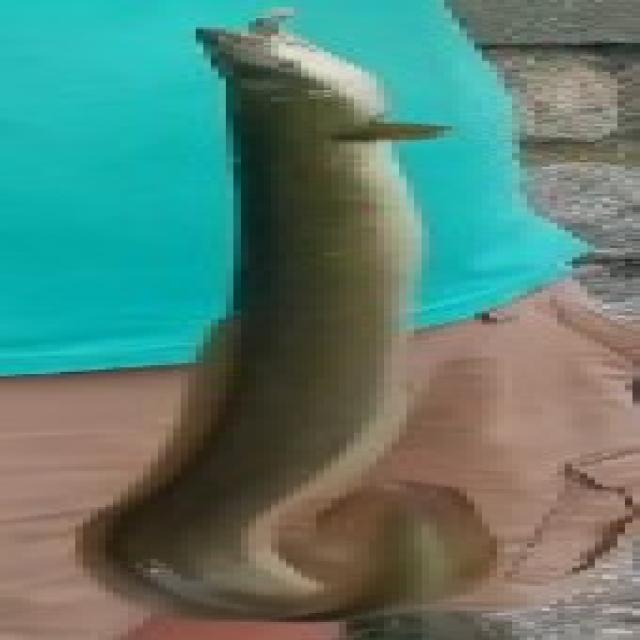Freshwater-Eel: (0, 0, 489, 633)
